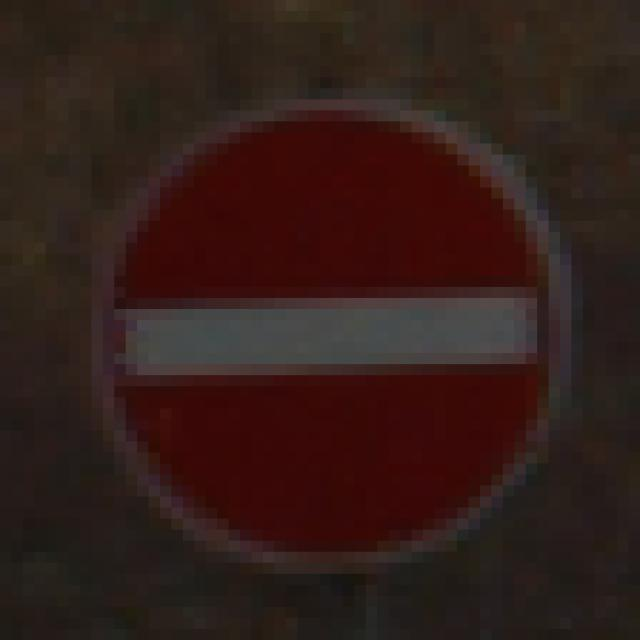No Entry: (69, 56, 584, 586)
